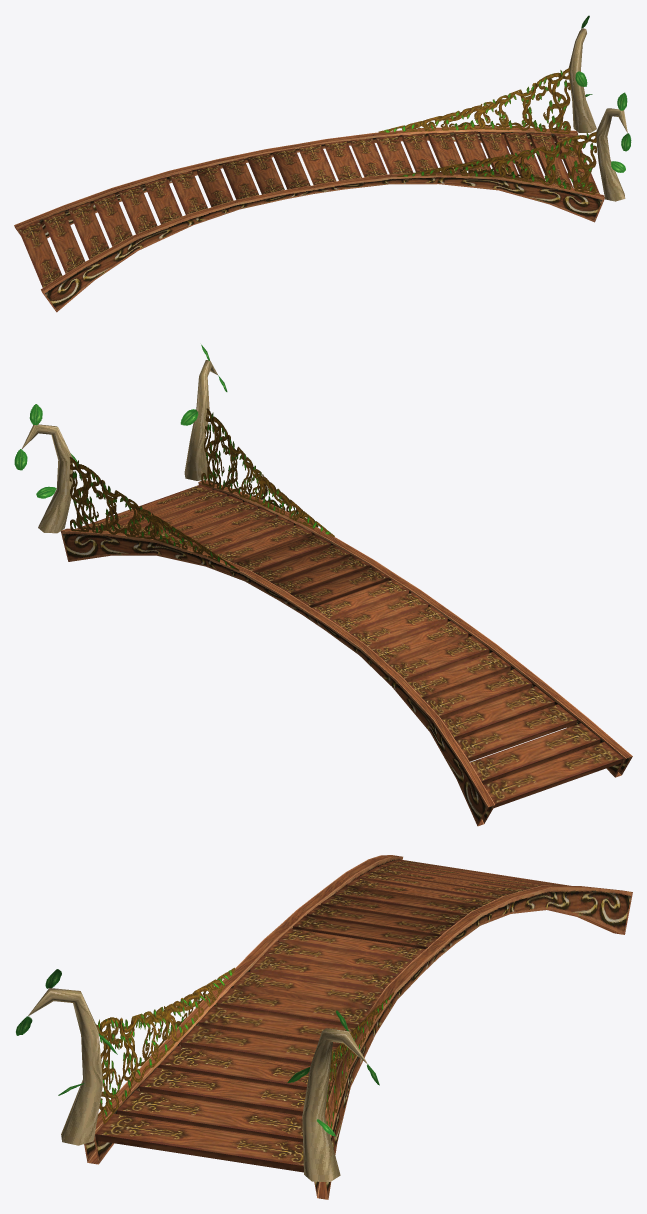
File: EKH_GROTTO_PS_GR_BRIDGE_473__GX.fbx
3 renders of one model, top to bottom at view 1: azimuth 30°, elevation 25°; view 2: azimuth 150°, elevation 25°; view 3: azimuth 270°, elevation 25°, orthographic. The views are drawn at different scales.
Visible parts, largest first — view 1: EKH_GROTTO_PS_GR_BRIDGE_473__GX; view 2: EKH_GROTTO_PS_GR_BRIDGE_473__GX; view 3: EKH_GROTTO_PS_GR_BRIDGE_473__GX.
Part boxes in pixels (<box>): EKH_GROTTO_PS_GR_BRIDGE_473__GX: <box>14,15,631,312</box>; EKH_GROTTO_PS_GR_BRIDGE_473__GX: <box>14,344,632,826</box>; EKH_GROTTO_PS_GR_BRIDGE_473__GX: <box>16,855,632,1199</box>.
Size of the model in its own units: 74029 by 23977 by 46600.
5 materials, 5 textured.
